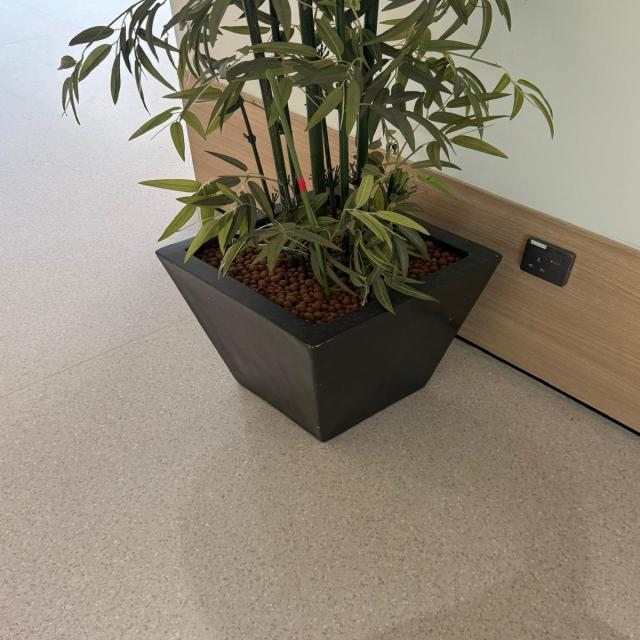Pot: (154, 183, 505, 445)
